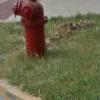Hydrant: (6, 1, 57, 61)
